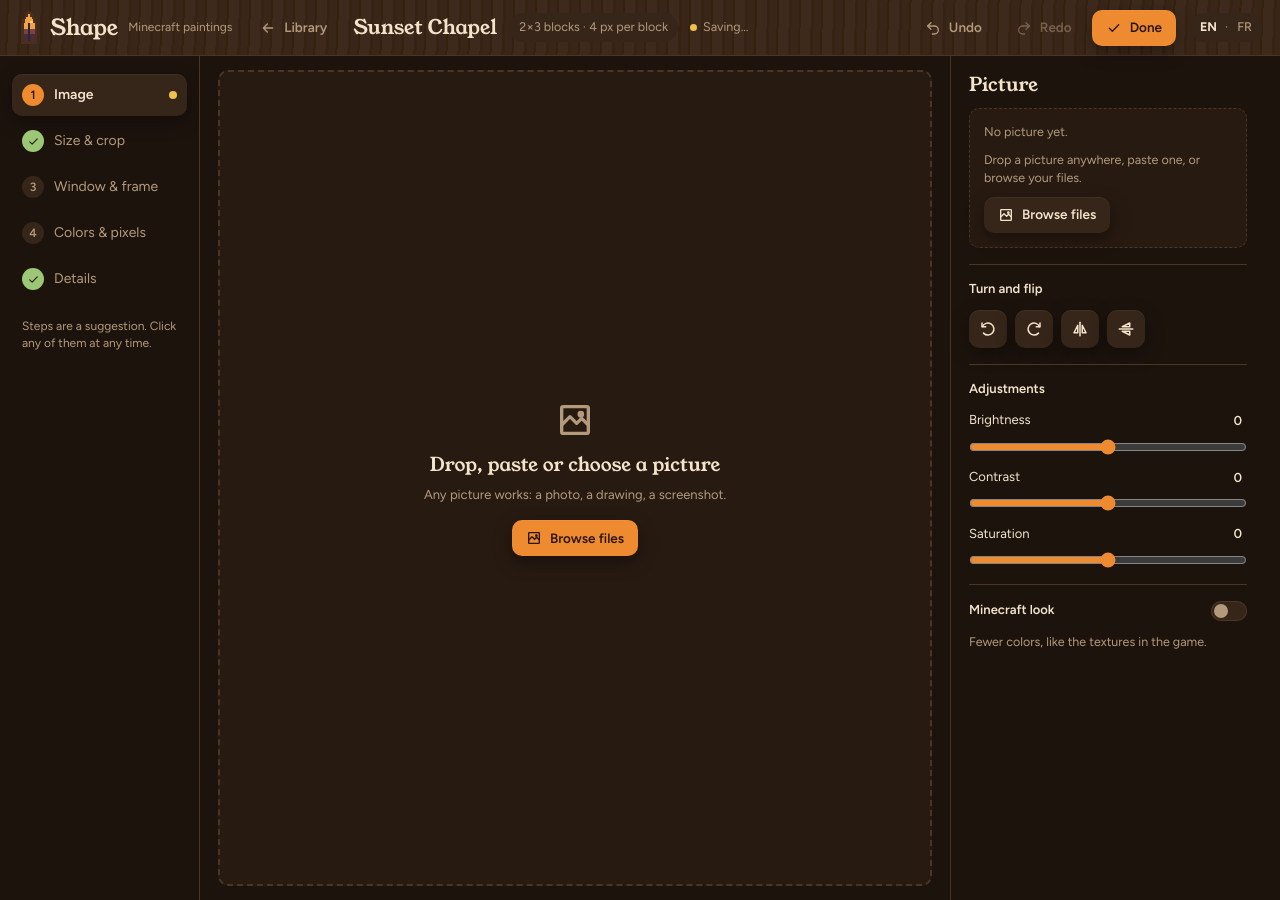
Test: EditorScreen › Done saves, says where, and shows the painting in the library
Click the button "Done": (1134, 28) left=1092, top=10, right=1176, bottom=46
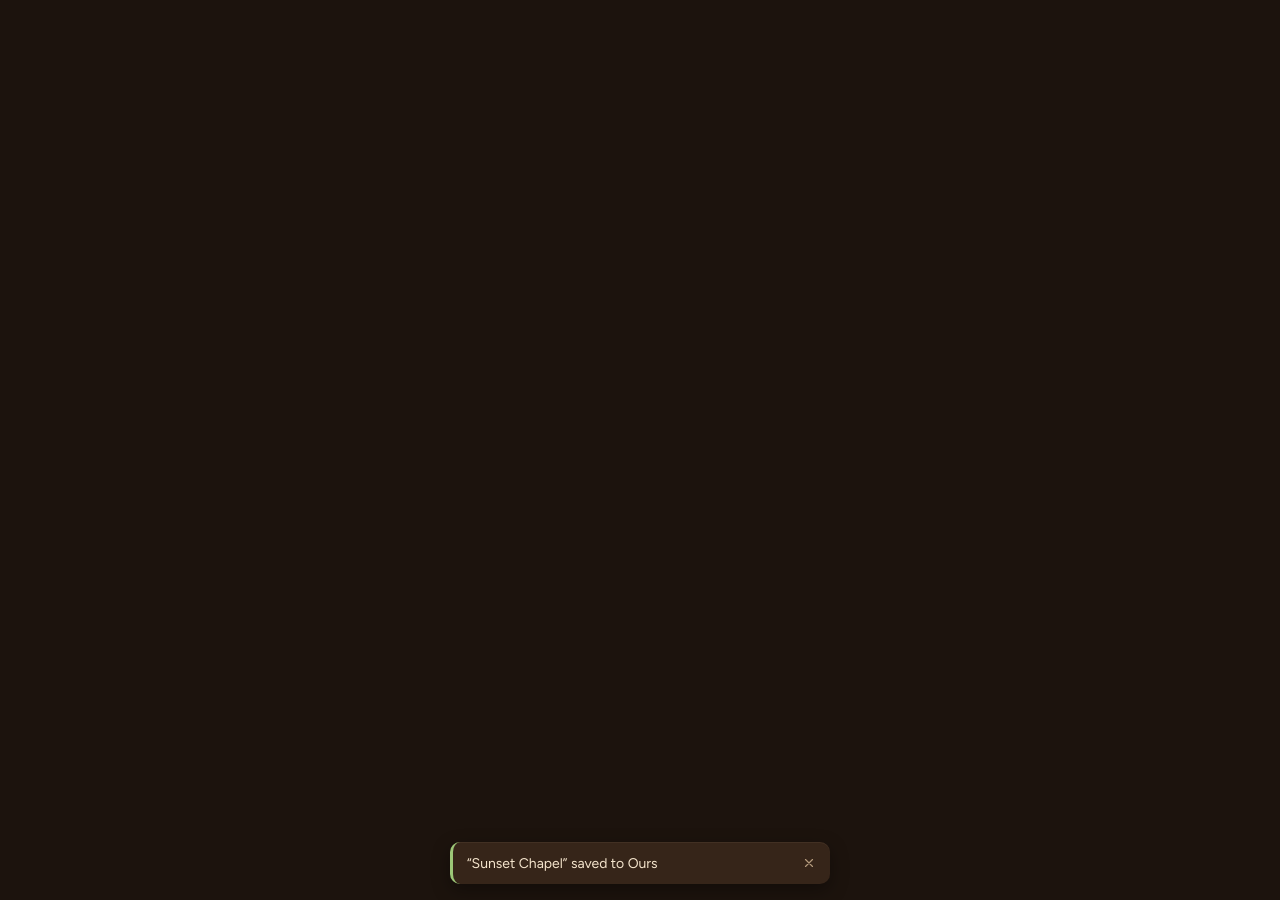
Now the text "“Sunset Chapel” saved to Ours" is shown, box left=467, top=855, right=658, bottom=872
